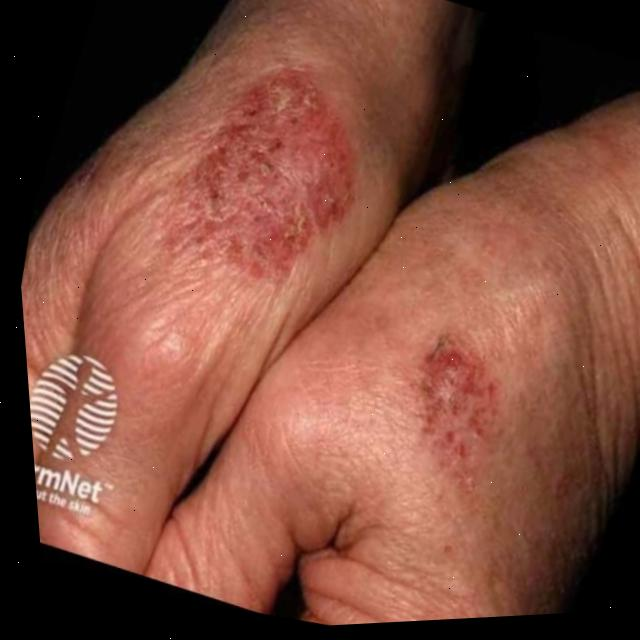Eczema: (156, 51, 371, 283), (399, 333, 512, 447)
